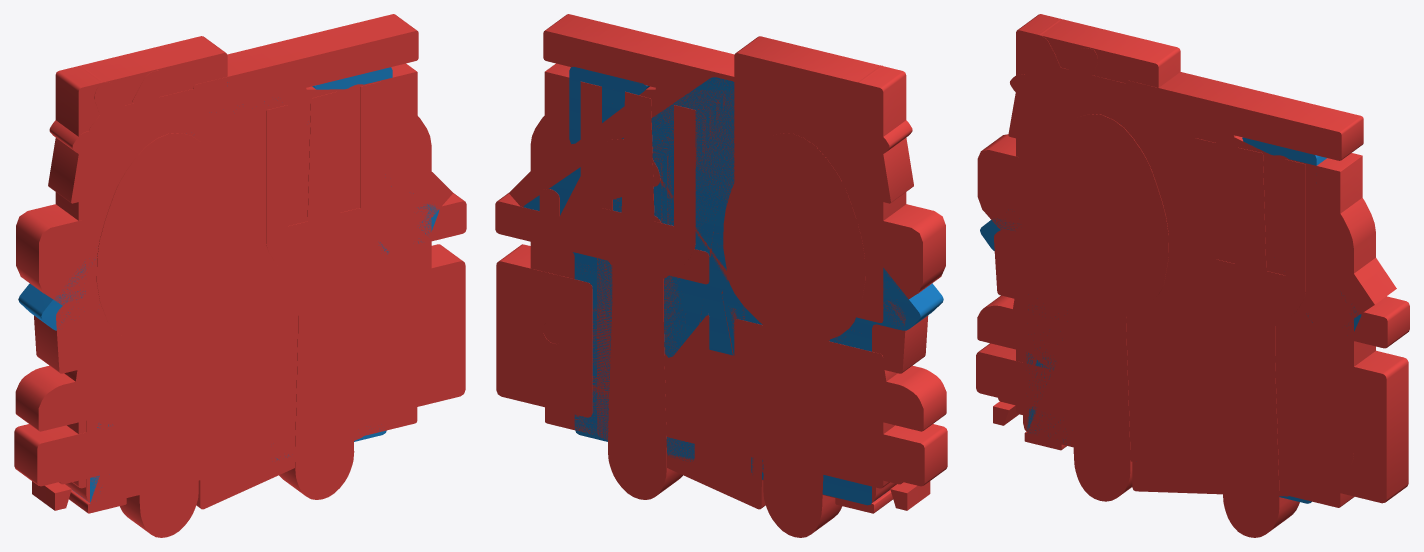
File: Icon_Hud.fbx
The picture shows the model from 3 angles, left to right: view 1: azimuth 30°, elevation 25°; view 2: azimuth 150°, elevation 25°; view 3: azimuth 330°, elevation 25°; orthographic projection. The views are drawn at different scales.
Parts seen in each view (by area): view 1: Food, Furniture, Decoration, Bathroom, Kitchen_Ico, Gas Station, Weapon, Clothing, Infomation, Door, Home; view 2: Food, Kitchen_Ico, Home, Furniture, Door, Weapon, Decoration, Gas Station, Clothing, Bathroom; view 3: Food, Furniture, Kitchen_Ico, Gas Station, Decoration, Clothing, Bathroom, Weapon, Infomation, Door, Home.
Part boxes in pixels (box(x1,y1,x2,y2)): Food: box(96, 81, 381, 537); Furniture: box(14, 14, 418, 513); Decoration: box(49, 65, 427, 484); Bathroom: box(109, 107, 429, 422); Kitchen_Ico: box(55, 36, 466, 488); Gas Station: box(65, 68, 431, 503); Weapon: box(16, 156, 396, 447); Clothing: box(20, 110, 452, 482); Infomation: box(208, 239, 292, 402); Door: box(132, 86, 364, 509); Home: box(18, 67, 439, 503); Food: box(580, 81, 865, 537); Kitchen_Ico: box(495, 36, 906, 488); Home: box(523, 67, 943, 505); Furniture: box(543, 14, 947, 513); Door: box(597, 86, 829, 509); Weapon: box(567, 204, 945, 429); Decoration: box(553, 65, 912, 484); Gas Station: box(530, 69, 896, 502); Clothing: box(509, 159, 941, 299); Bathroom: box(538, 120, 840, 411); Food: box(1032, 114, 1305, 537); Furniture: box(976, 72, 1363, 507); Kitchen_Ico: box(1016, 14, 1409, 503); Gas Station: box(1023, 65, 1375, 483); Decoration: box(998, 18, 1350, 486); Clothing: box(982, 158, 1396, 488); Bathroom: box(1045, 93, 1352, 473); Weapon: box(977, 125, 1321, 496); Infomation: box(1140, 250, 1220, 409); Door: box(1066, 98, 1289, 496); Home: box(980, 137, 1361, 503).
Size of the model in its own units: 133 by 139 by 12.55.
